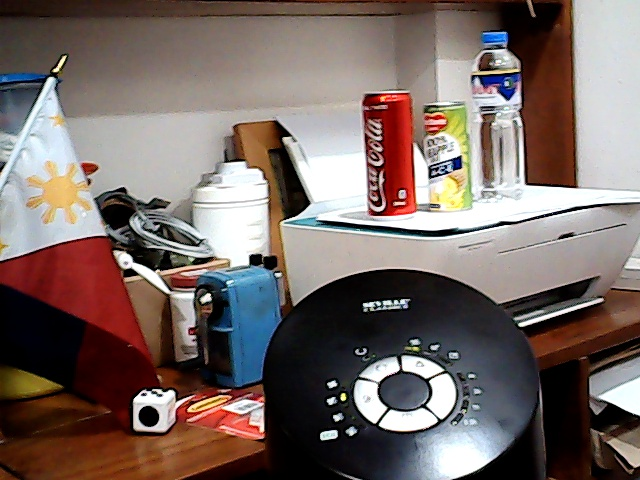Cola: (360, 86, 420, 215)
Pine Juice: (416, 97, 476, 211)
Summit Water: (473, 28, 529, 197)
